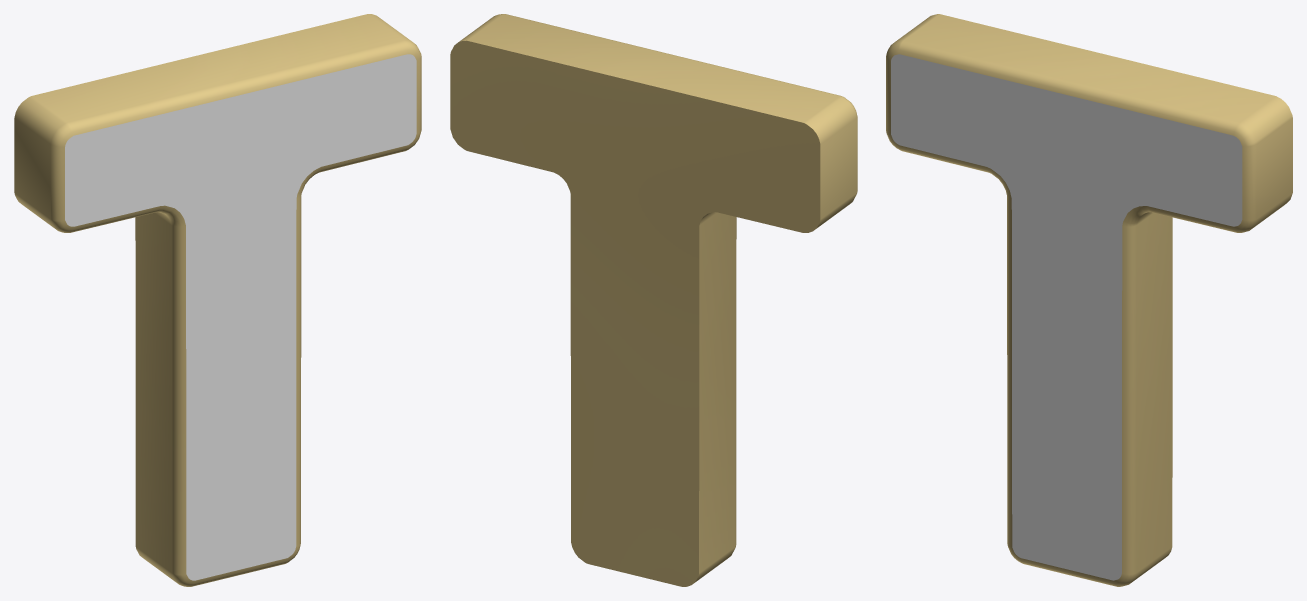
Rendered from LettersLightUp02_T.FBX.
3 renders of one model, left to right at view 1: azimuth 30°, elevation 25°; view 2: azimuth 150°, elevation 25°; view 3: azimuth 330°, elevation 25°, orthographic.
Parts seen in each view (by area): view 1: LettersLightUp02_T; view 2: LettersLightUp02_T; view 3: LettersLightUp02_T.
Boxes of the visible parts, left/top/right/bottom form: LettersLightUp02_T: left=14, top=14, right=421, bottom=586; LettersLightUp02_T: left=450, top=14, right=857, bottom=586; LettersLightUp02_T: left=886, top=14, right=1292, bottom=586.
Size of what is drawn, in the model's own units: 0.4702 by 0.5996 by 0.0912.
